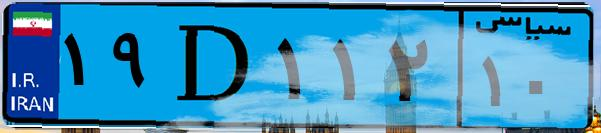0: (525, 38, 570, 115)
1: (270, 28, 330, 110), (330, 28, 385, 110), (57, 26, 110, 100), (475, 38, 525, 113)
2: (385, 28, 445, 110)
9: (110, 28, 158, 98)
D: (158, 12, 270, 120)
